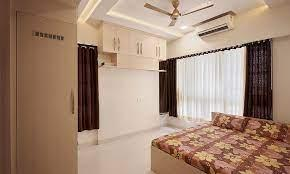bed: (150, 114, 290, 173)
door: (16, 17, 77, 174)
fan: (141, 0, 214, 25)
light: (179, 21, 188, 32)
